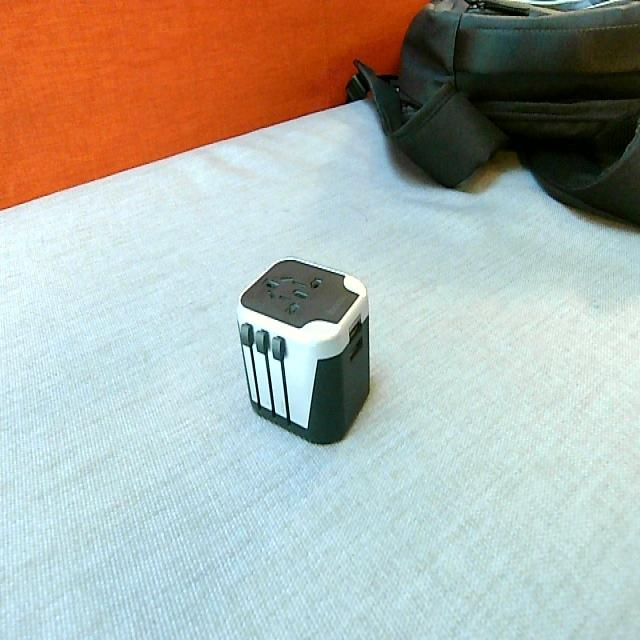adapter: (235, 256, 370, 444)
